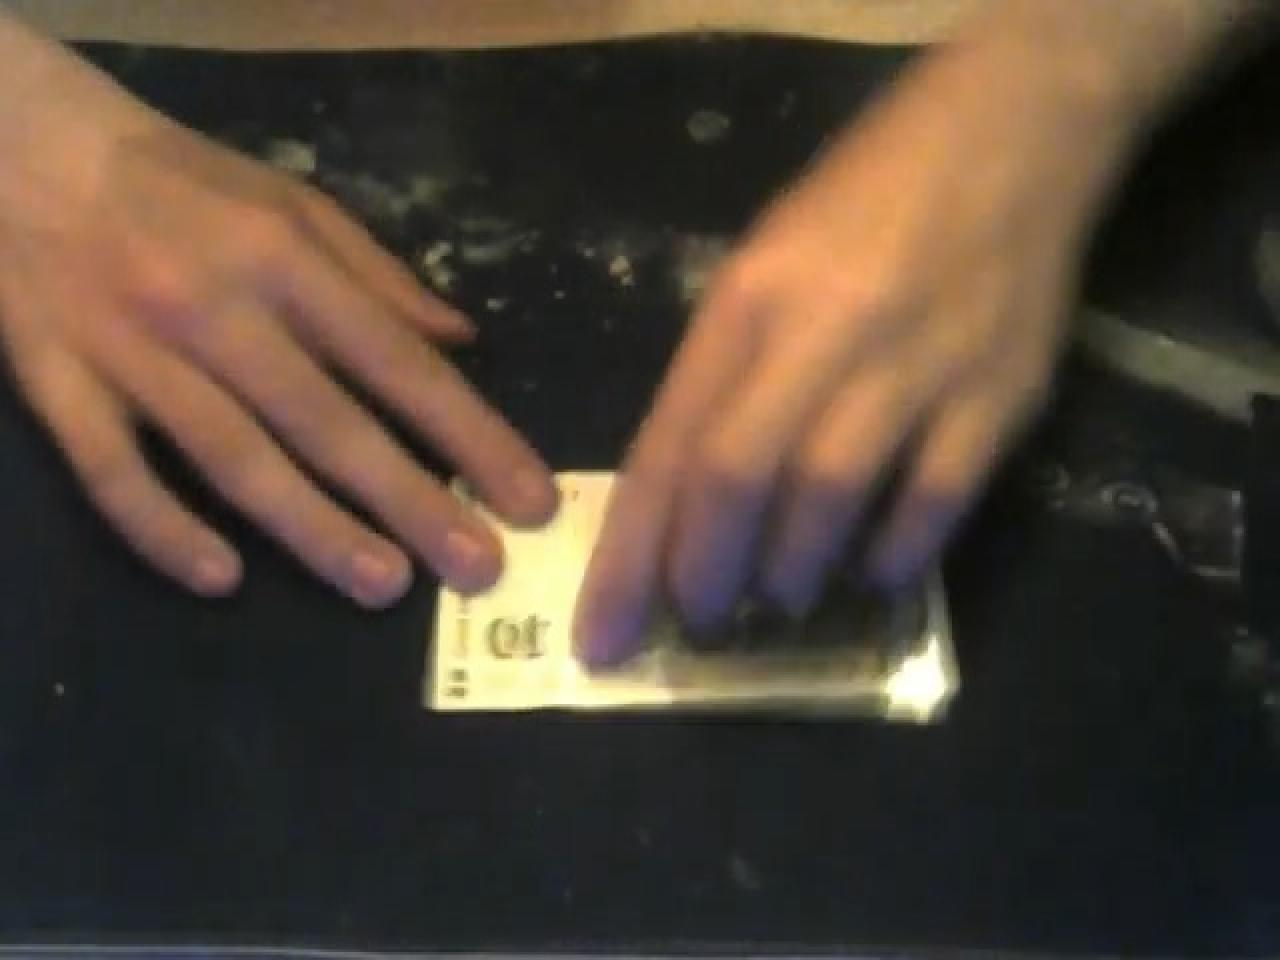10leva: (422, 472, 952, 720)
